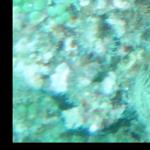dead: (5, 1, 144, 140)
